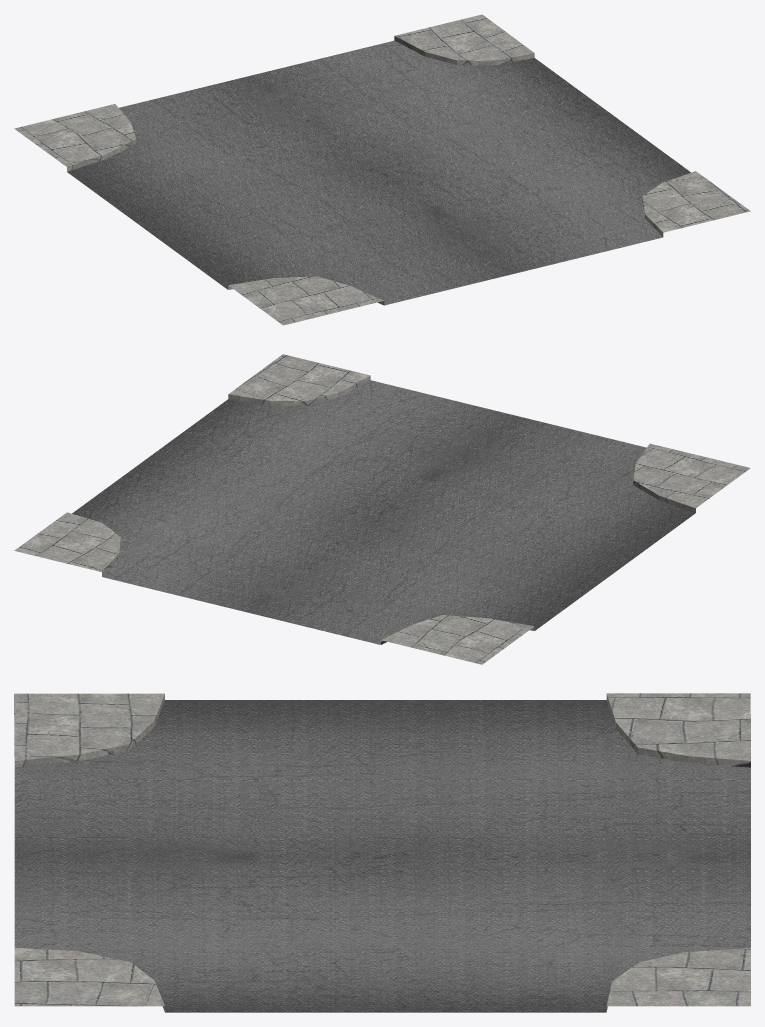
Rendered from road_inter.fbx.
3 views of the same model, one above another, from view 1: azimuth 30°, elevation 25°; view 2: azimuth 150°, elevation 25°; view 3: azimuth 270°, elevation 25° (orthographic). The views are drawn at different scales.
Visible parts, largest first — view 1: Plane.004; view 2: Plane.004; view 3: Plane.004.
Part boxes in pixels (x1,y1,x2,y2): Plane.004: [14, 14, 750, 325]; Plane.004: [14, 354, 750, 664]; Plane.004: [14, 693, 750, 1012].
Bounding box in the file's own units: 1006 × 10.03 × 1002.
